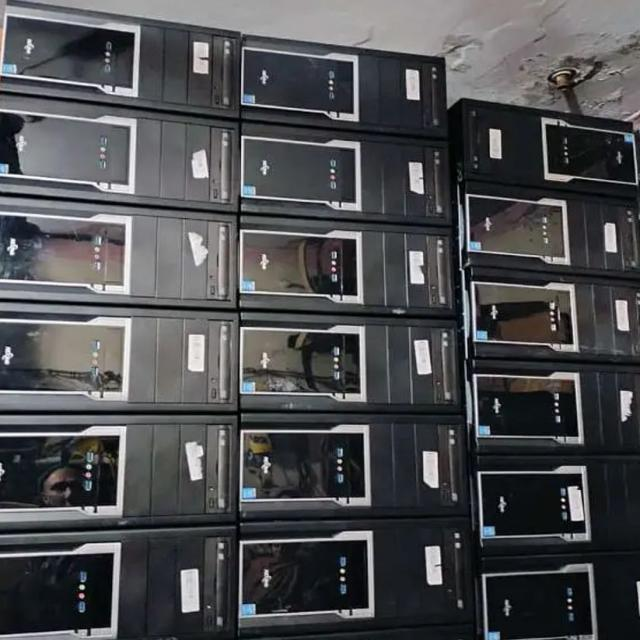electronic: (219, 496, 476, 640), (0, 509, 261, 640), (1, 1, 240, 132), (3, 193, 244, 321), (0, 399, 237, 528), (218, 15, 455, 140), (0, 105, 243, 221), (220, 115, 462, 231), (439, 65, 640, 200), (0, 305, 245, 415), (231, 219, 465, 329), (226, 412, 470, 517), (225, 320, 478, 418), (457, 166, 640, 295), (459, 441, 640, 565), (462, 261, 640, 380), (463, 361, 640, 467), (452, 548, 640, 640)
